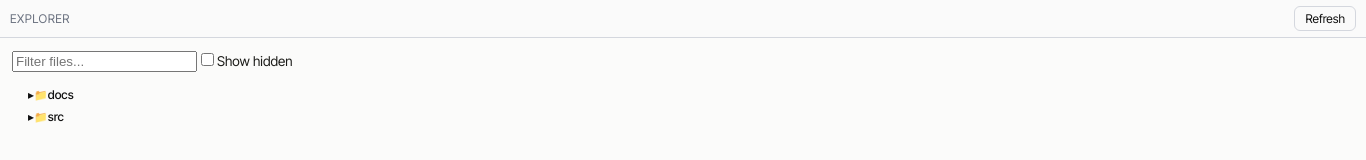
Test: <ProjectExplorer/> › filter narrows visible entries and auto-expands ancestors
Type "util" into the field with test id "code-explorer-filter" at (104, 62), box [12,51,197,72]
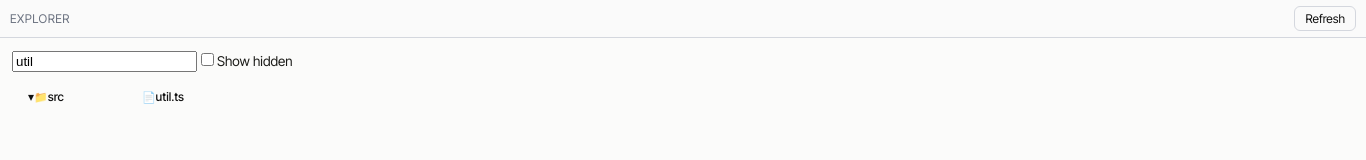
Result: the text "util.ts" is shown at [156,89,184,104]
